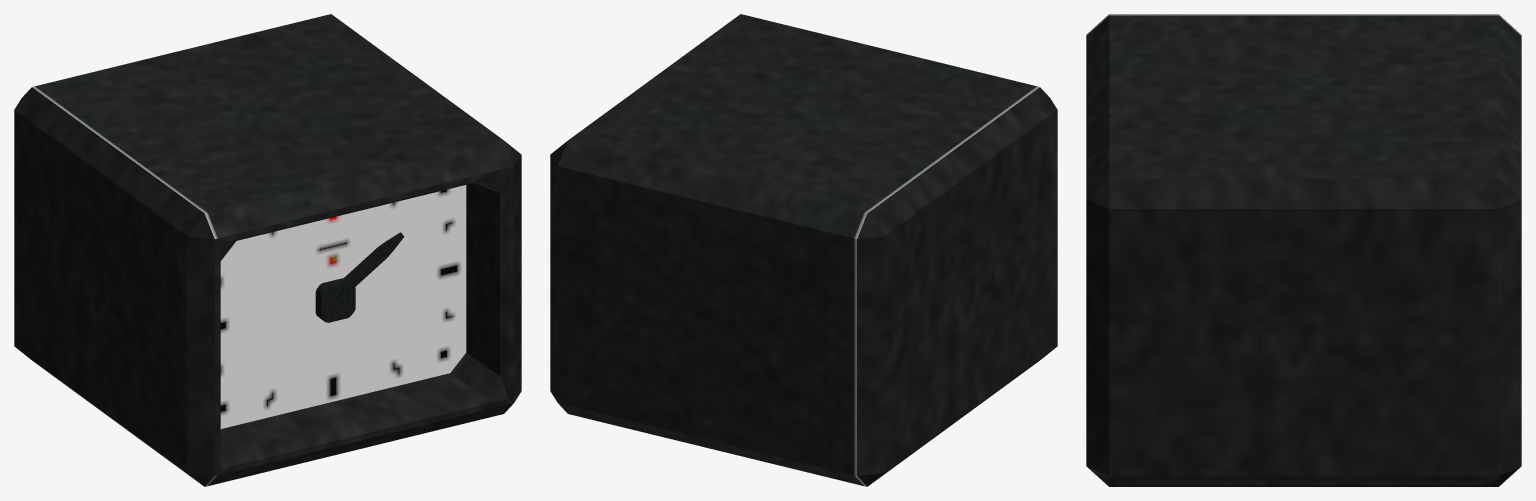
File: RELOGIO.fbx
3 views of the same model, side by side, from view 1: azimuth 30°, elevation 25°; view 2: azimuth 150°, elevation 25°; view 3: azimuth 270°, elevation 25° (orthographic). The views are drawn at different scales.
Visible parts, largest first — view 1: Corpo, Meiuca, Ponteiro; view 2: Corpo; view 3: Corpo.
Part boxes in pixels (<box>): Corpo: <box>14,14,521,486</box>; Meiuca: <box>315,278,355,322</box>; Ponteiro: <box>341,232,404,286</box>; Corpo: <box>550,14,1057,486</box>; Corpo: <box>1086,14,1521,486</box>.
Bounding box in the file's own units: 178 × 139 × 178.
2 materials, 2 textured.
